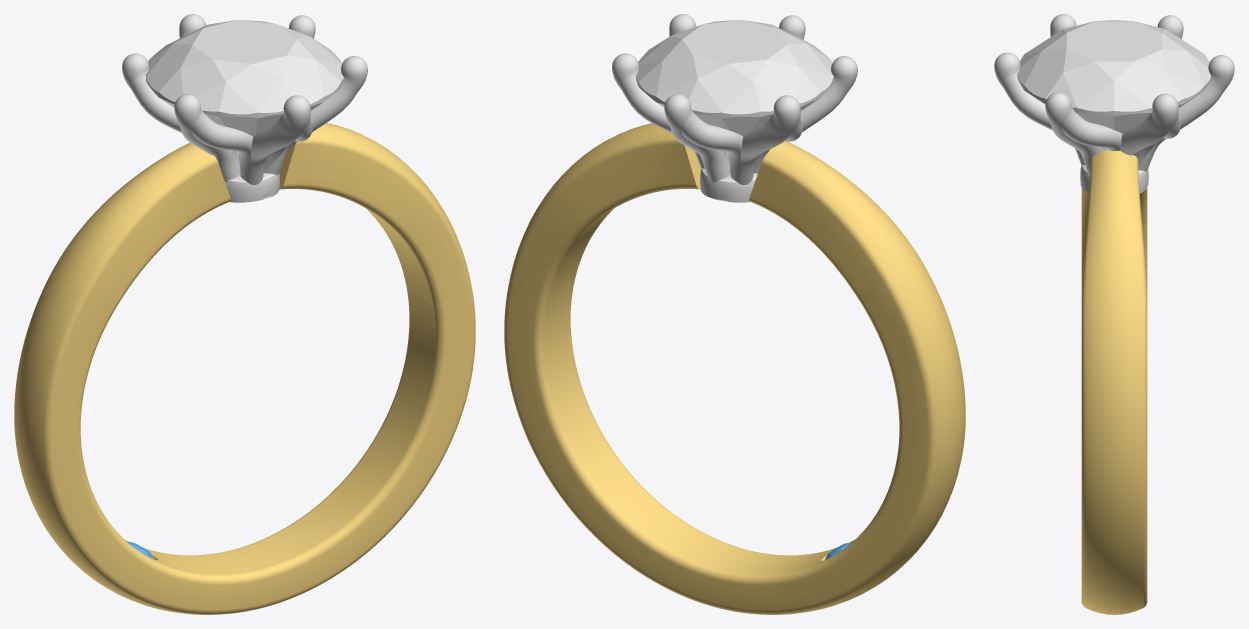
Rendered from RussYGeng.glb.
3 renders of one model, left to right at view 1: azimuth 30°, elevation 25°; view 2: azimuth 150°, elevation 25°; view 3: azimuth 270°, elevation 25°, orthographic. The views are drawn at different scales.
Visible parts, largest first — view 1: Russ YG for 3d model, Russ dia for 3d model, Russ PT for 3d model; view 2: Russ YG for 3d model, Russ dia for 3d model, Russ PT for 3d model; view 3: Russ YG for 3d model, Russ dia for 3d model, Russ PT for 3d model.
Part boxes in pixels (box(x1,y1,x2,y2)): Russ YG for 3d model: box(14, 123, 475, 614); Russ dia for 3d model: box(145, 20, 343, 136); Russ PT for 3d model: box(122, 14, 367, 202); Russ YG for 3d model: box(504, 123, 965, 614); Russ dia for 3d model: box(635, 20, 833, 136); Russ PT for 3d model: box(612, 14, 857, 202); Russ YG for 3d model: box(1081, 149, 1147, 614); Russ dia for 3d model: box(1017, 20, 1211, 133); Russ PT for 3d model: box(994, 14, 1234, 193).
Bounding box in the file's own units: 19.08 × 23.04 × 9.12.
